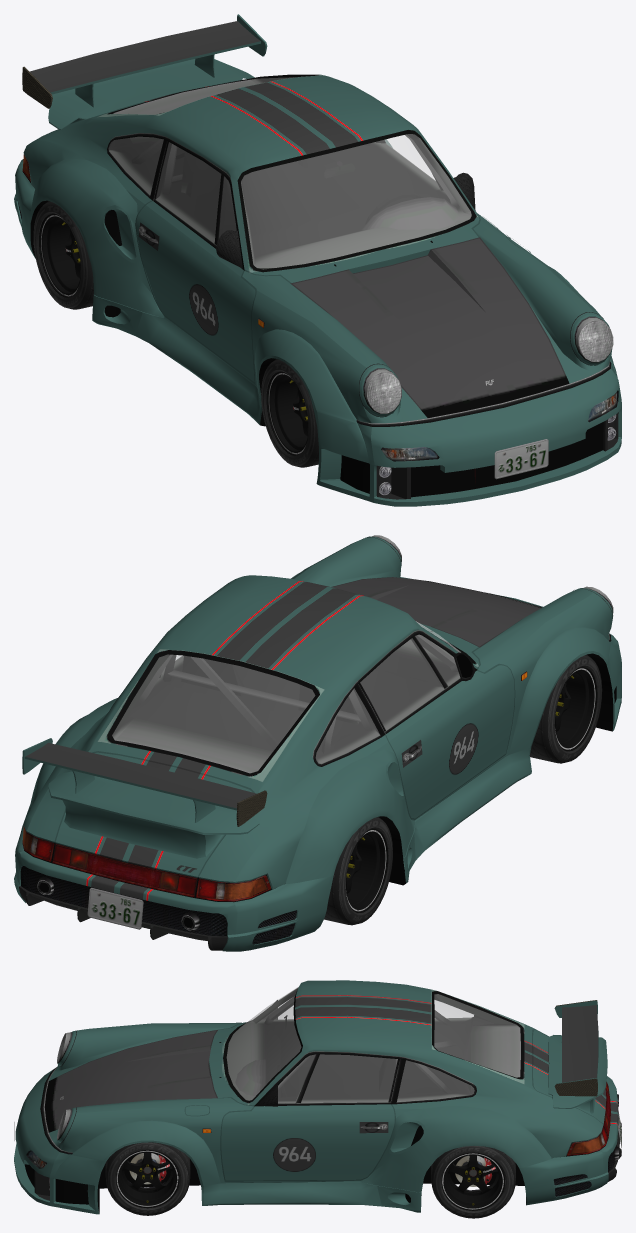
The picture shows the model from 3 angles, top to bottom: view 1: azimuth 30°, elevation 25°; view 2: azimuth 150°, elevation 25°; view 3: azimuth 270°, elevation 25°; orthographic projection. The views are drawn at different scales.
Visible parts, largest first — view 1: PLC_R964_aero_F_.001_6, glass___O_OBJ_O_NOSORT_NEAR_.002_4, PLC_R964_bonnet_N_.002_15, PLC_R964_inner_L0_.006_16, PLC_R964_rearspoiler_N_F__10, PLC_R964_body_N_.002_21, PLC_R964_aero_F_.002_7, HL_BD_COVER___O_OBJ_O_NOSORT_NEAR_.002_3, wheel.002_28, wheel.003_31, HONDA_CIVIC_TURBO_LOD_A_TYRE_mm_tyre.003_33, HONDA_CIVIC_TURBO_LOD_A_TYRE_mm_tyre.002_30 (+4 smaller); view 2: PLC_R964_aero_F_.001_6, glass___O_OBJ_O_NOSORT_NEAR_.002_4, PLC_R964_inner_L0_.006_16, PLC_R964_rearspoiler_N_F__10, PLC_R964_body_N_.002_21, PLC_R964_bonnet_N_.002_15, PLC_R964_trunk_N_NABCDEFGH_.002_2, rollbar_B___O_OBJ_O_NOSORT__20, wheel.002_28, wheel.003_31, HONDA_CIVIC_TURBO_LOD_A_TYRE_mm_tyre.002_30, HONDA_CIVIC_TURBO_LOD_A_TYRE_mm_tyre.003_33 (+3 smaller); view 3: PLC_R964_aero_F_.001_6, glass___O_OBJ_O_NOSORT_NEAR_.002_4, PLC_R964_inner_L0_.006_16, PLC_R964_bonnet_N_.002_15, PLC_R964_rearspoiler_N_F__10, PLC_R964_body_N_.002_21, wheel.001_25, wheel_22, PLC_R964_aero_F_.002_7, HONDA_CIVIC_TURBO_LOD_A_TYRE_mm_tyre.001_27, HONDA_CIVIC_TURBO_LOD_A_TYRE_mm_tyre_24, PLC_R964_trunk_N_NABCDEFGH_.002_2 (+5 smaller).
Boxes of the visible parts, x1,y1,x2,y2 form: PLC_R964_aero_F_.001_6: (14, 74, 621, 506); glass___O_OBJ_O_NOSORT_NEAR_.002_4: (109, 77, 471, 267); PLC_R964_bonnet_N_.002_15: (290, 237, 569, 417); PLC_R964_inner_L0_.006_16: (109, 77, 471, 269); PLC_R964_rearspoiler_N_F__10: (22, 14, 267, 129); PLC_R964_body_N_.002_21: (22, 74, 611, 417); PLC_R964_aero_F_.002_7: (30, 200, 611, 493); HL_BD_COVER___O_OBJ_O_NOSORT_NEAR_.002_3: (363, 316, 613, 413); wheel.002_28: (266, 371, 308, 455); wheel.003_31: (39, 213, 80, 297); HONDA_CIVIC_TURBO_LOD_A_TYRE_mm_tyre.003_33: (33, 201, 93, 309); HONDA_CIVIC_TURBO_LOD_A_TYRE_mm_tyre.002_30: (261, 359, 318, 467); PLC_R964_aero_F_.001_6: (14, 537, 621, 951); glass___O_OBJ_O_NOSORT_NEAR_.002_4: (112, 621, 460, 772); PLC_R964_inner_L0_.006_16: (112, 638, 460, 773); PLC_R964_rearspoiler_N_F__10: (22, 738, 267, 858); PLC_R964_body_N_.002_21: (22, 536, 613, 902); PLC_R964_bonnet_N_.002_15: (331, 577, 541, 647); PLC_R964_trunk_N_NABCDEFGH_.002_2: (54, 751, 254, 877); rollbar_B___O_OBJ_O_NOSORT__20: (134, 634, 458, 753); wheel.002_28: (554, 667, 597, 751); wheel.003_31: (345, 829, 388, 912); HONDA_CIVIC_TURBO_LOD_A_TYRE_mm_tyre.002_30: (529, 654, 602, 763); HONDA_CIVIC_TURBO_LOD_A_TYRE_mm_tyre.003_33: (324, 817, 392, 925); PLC_R964_aero_F_.001_6: (14, 980, 621, 1214); glass___O_OBJ_O_NOSORT_NEAR_.002_4: (227, 987, 520, 1102); PLC_R964_inner_L0_.006_16: (226, 988, 520, 1103); PLC_R964_bonnet_N_.002_15: (44, 1030, 221, 1132); PLC_R964_rearspoiler_N_F__10: (548, 1000, 607, 1113); PLC_R964_body_N_.002_21: (57, 989, 610, 1156); wheel.001_25: (116, 1150, 179, 1208); wheel_22: (441, 1153, 504, 1210); PLC_R964_aero_F_.002_7: (40, 1067, 564, 1213); HONDA_CIVIC_TURBO_LOD_A_TYRE_mm_tyre.001_27: (105, 1142, 190, 1215); HONDA_CIVIC_TURBO_LOD_A_TYRE_mm_tyre_24: (431, 1145, 515, 1218); PLC_R964_trunk_N_NABCDEFGH_.002_2: (532, 1029, 606, 1124).
Size of the model in its own units: 4.88 by 3.19 by 11.
13 materials, 12 textured.
